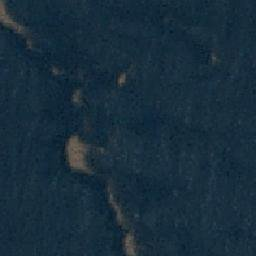debris: (62, 133, 97, 171), (113, 204, 127, 226), (8, 19, 31, 32), (122, 230, 136, 249), (114, 69, 127, 89), (46, 64, 61, 76), (206, 49, 218, 64), (24, 34, 35, 49), (1, 1, 8, 24), (71, 90, 81, 104), (106, 181, 112, 204), (97, 144, 107, 154)
